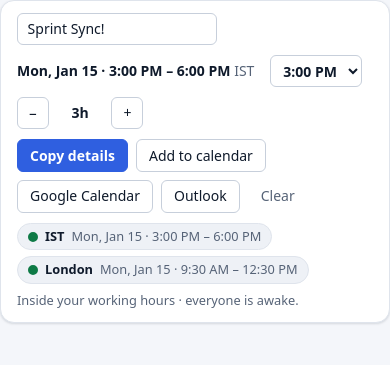
Test case: PlannerBar › downloads a calendar file named after the meeting
What coordinates should you click on to do the following:
click the button "Add to calendar"
I would click on:
 (201, 155)
Its box is [136, 139, 266, 172].
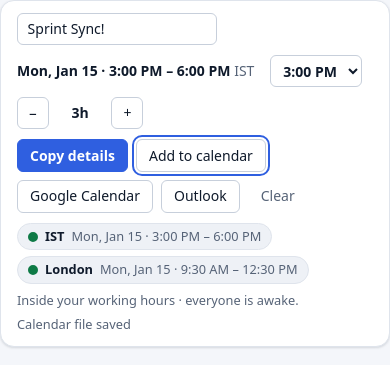
Check: the text "Calendar file saved" is shown, box [17, 315, 131, 333]
